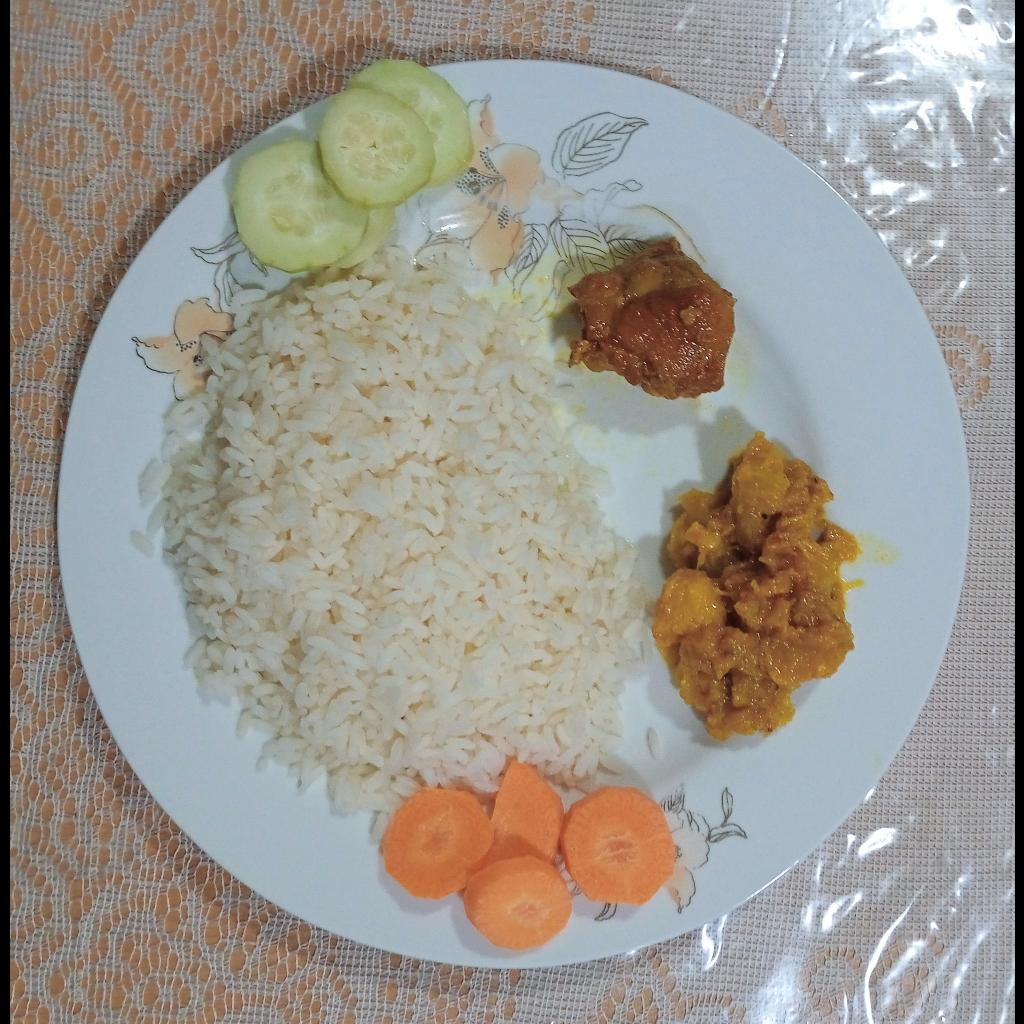carrot: (381, 758, 674, 951)
chicken: (565, 240, 735, 401)
cucumber: (226, 58, 475, 276)
kumra-vaji: (650, 432, 860, 745)
rice: (130, 256, 647, 828)
